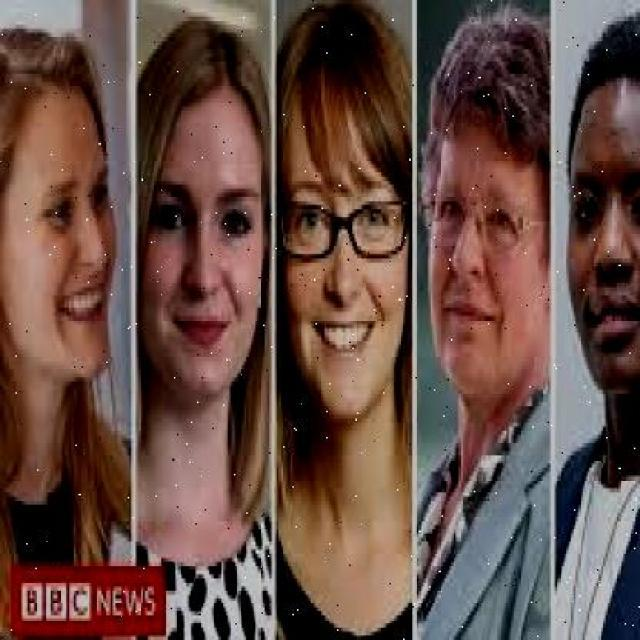mask: (274, 194, 412, 268)
